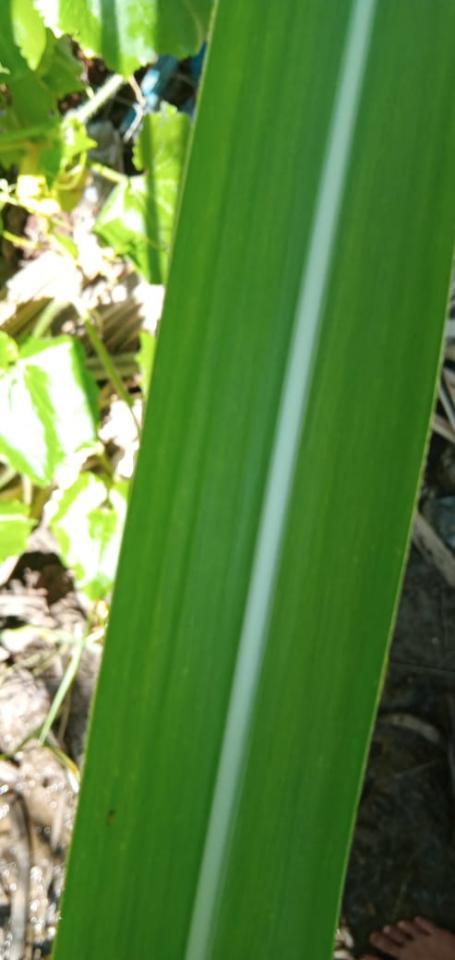Healthy: (55, 0, 454, 959)
